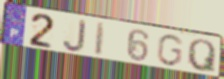2: (28, 13, 57, 51)
6: (126, 28, 151, 63)
G: (155, 33, 185, 68)
I: (93, 21, 108, 58)
J: (61, 18, 88, 53)
Q: (186, 38, 217, 75)
